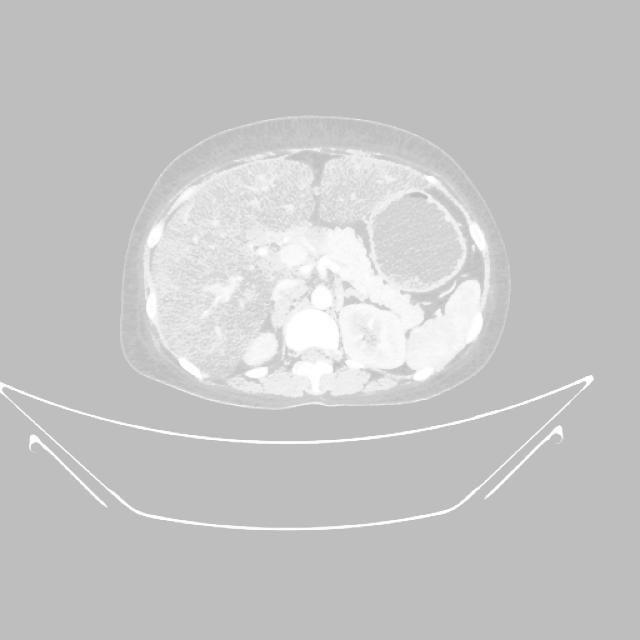NORMAL: (96, 127, 517, 400)
